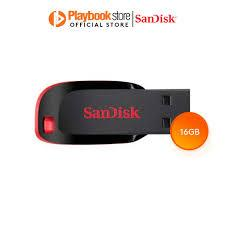Flash-drive: (30, 70, 211, 153)
